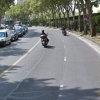Motorcycle: (35, 27, 53, 52)
